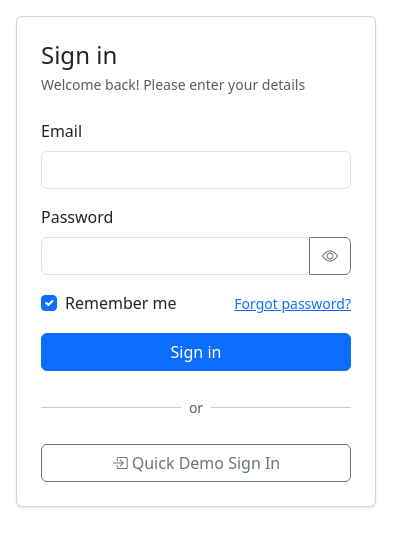
it: should validate email format
Type "not-an-email" into the field labelled "Email" at (196, 170), box 41,151 -> 351,189
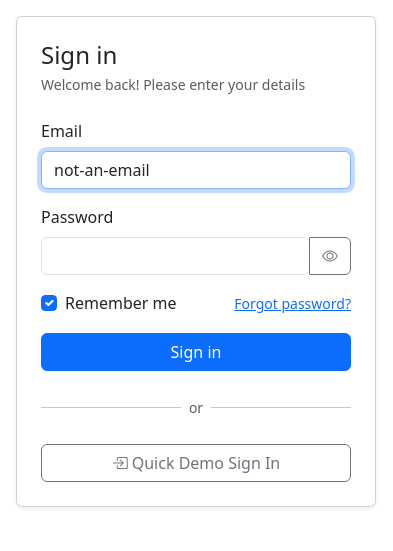
Leave the field labelled "Email", box 41,151 -> 351,189
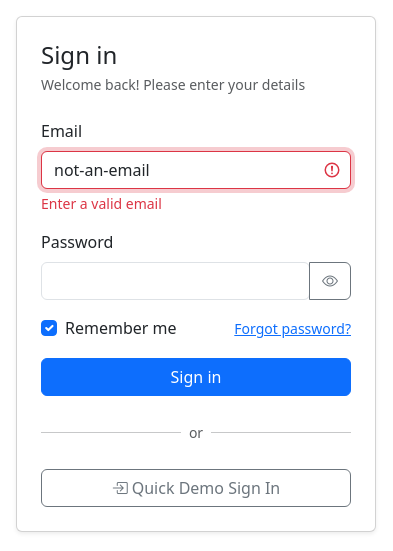
Now the text "Enter a valid email" is shown, box 41,194 -> 162,213
